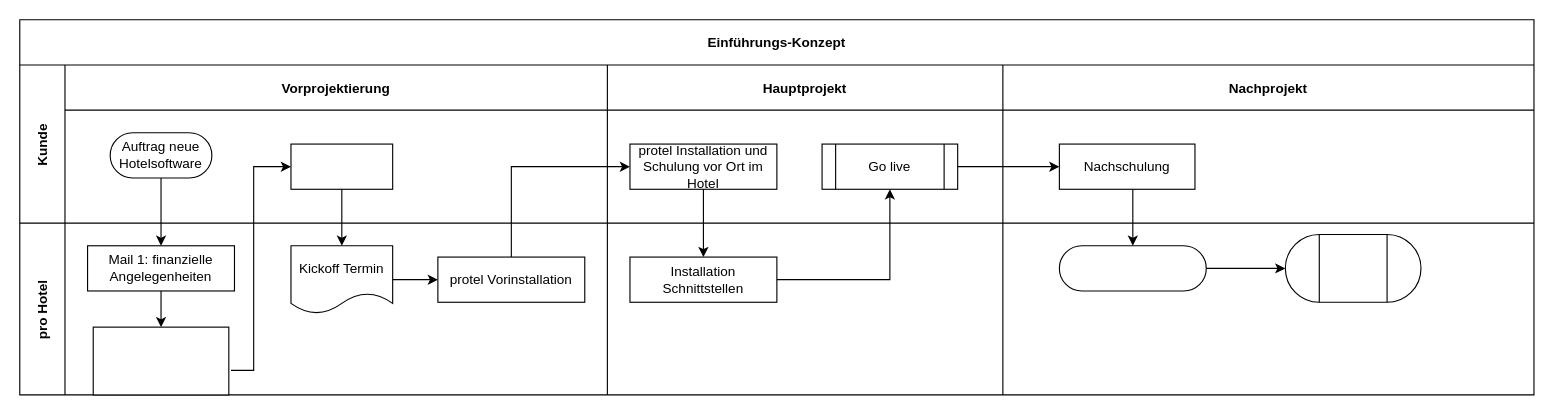
The diagram is 1554 pixels wide and 415 high, and some of its shapes have lost their labels. Here are the shapes that lost their labels. From the top down, the box of each, then its label:
(290, 143, 393, 189): Ausfüllen und Rücksenden der Unterlagen
(1058, 245, 1206, 291): Feedbackgespräch
(1284, 233, 1421, 302): Übergabe an protel Support
(92, 326, 229, 395): Mail 2: Checklisten Hotelsoftware inkl. Projektplan
